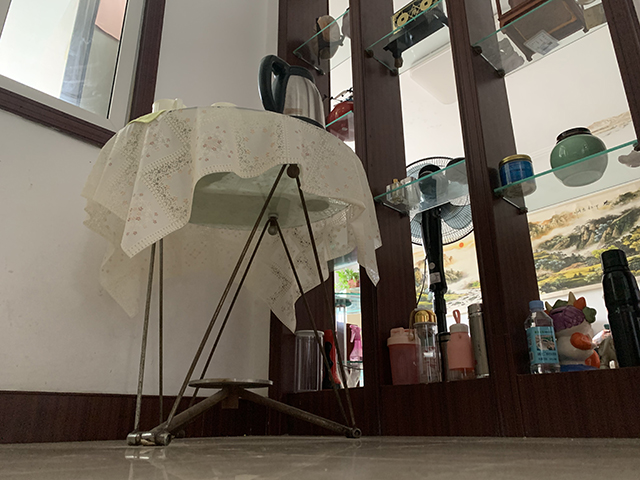cabinet: (387, 194, 639, 439)
table: (80, 104, 384, 448)
